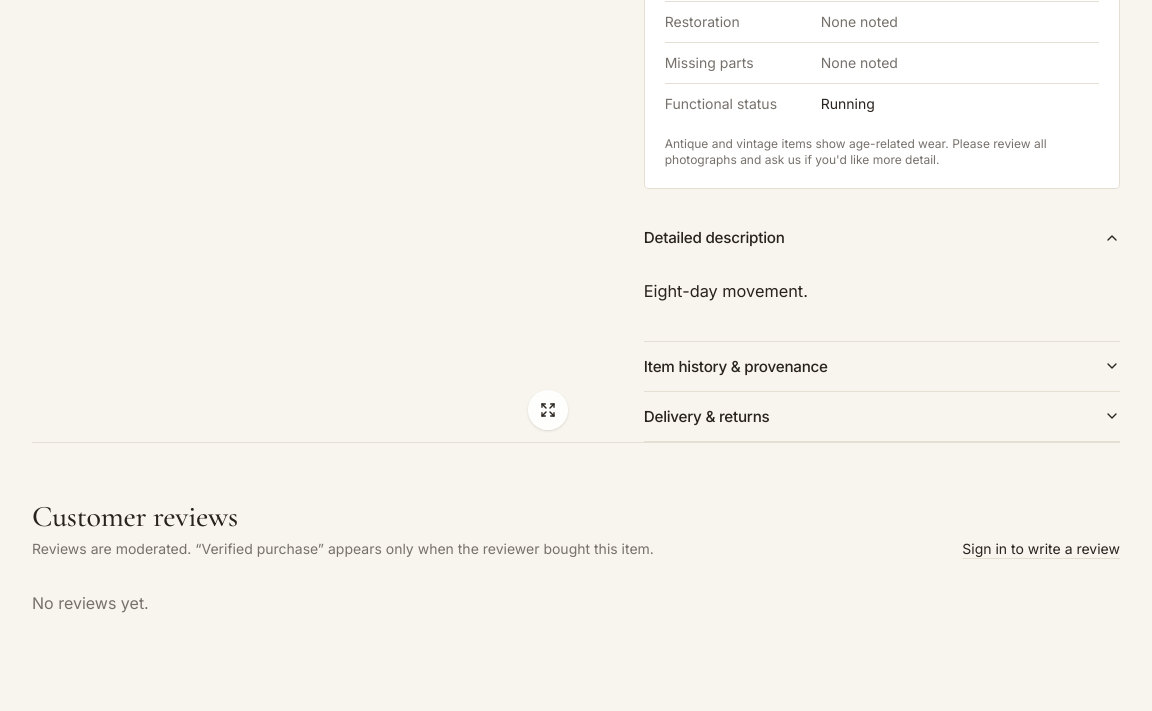
Test case: Product details › never claims documented provenance without stored evidence
(page scrolled)
Click the button "Item history & provenance" at point(736, 366), box [644, 342, 1120, 390]
(page scrolled)
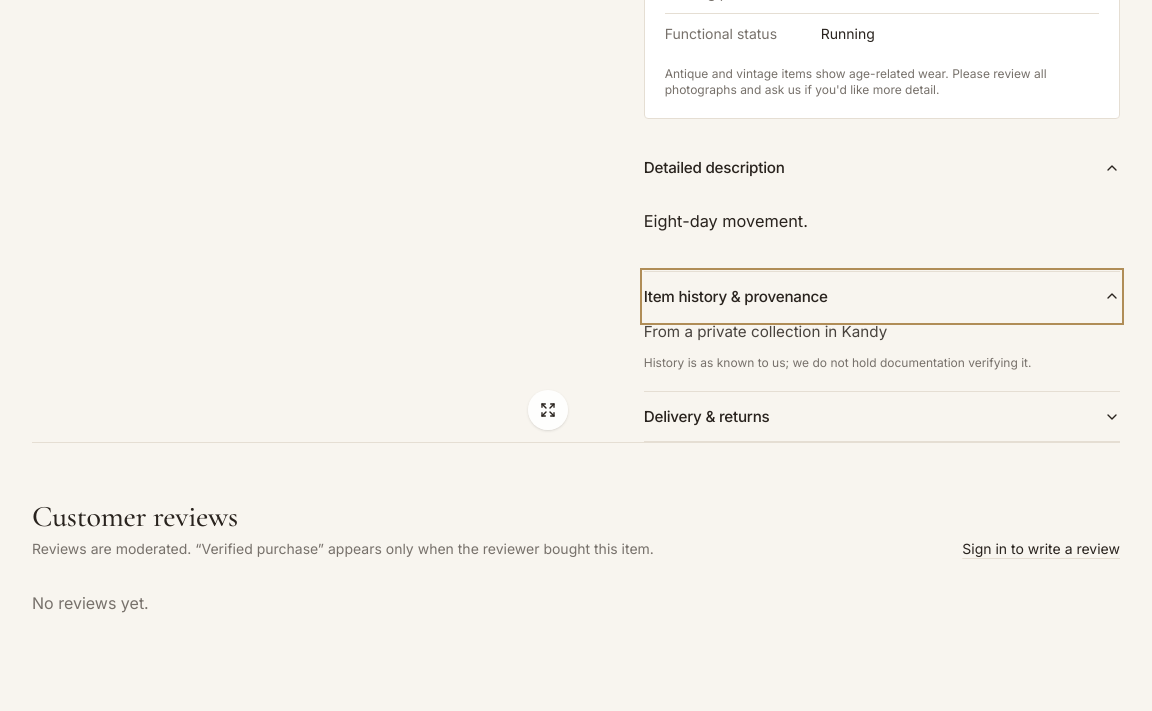
Expected: the text "we do not hold documentation verifying it" is shown, [644, 355, 1032, 370]
